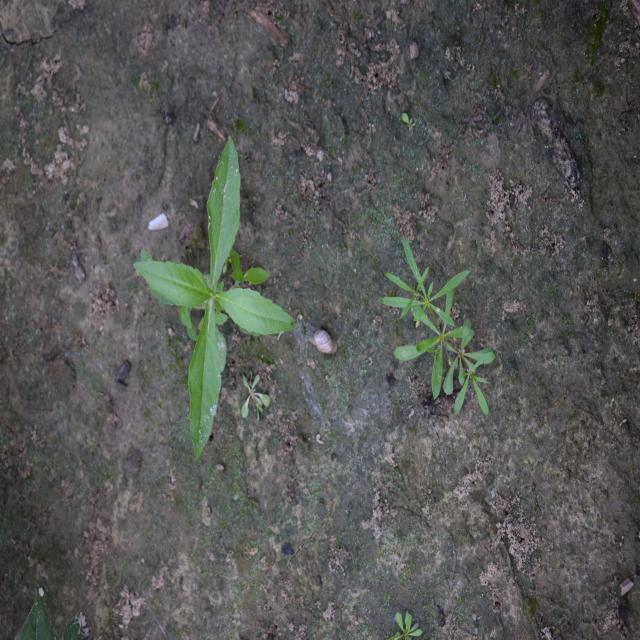Carpetweed: (378, 232, 496, 418), (239, 370, 272, 429), (388, 608, 423, 639)
Eclipta: (131, 130, 300, 460)
